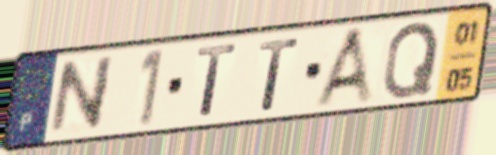1: (137, 46, 165, 129)
A: (311, 23, 378, 109)
N: (46, 52, 118, 139)
Q: (379, 18, 442, 103)
T: (194, 41, 240, 121), (256, 35, 301, 113)
